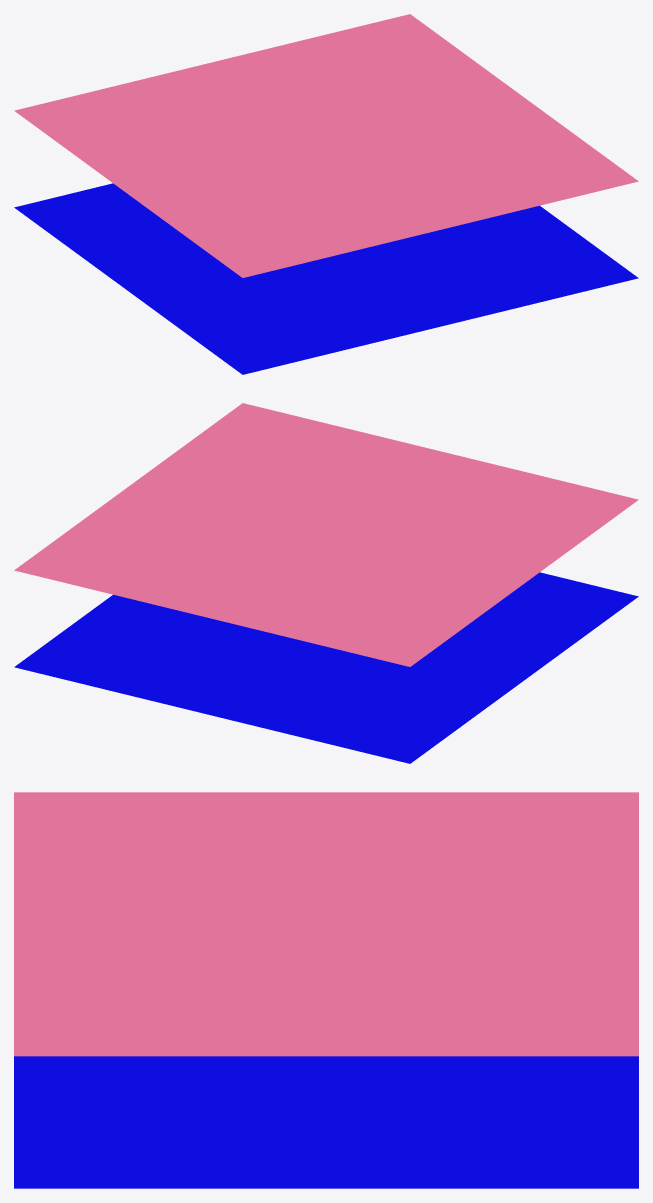
The model's file is parallelplanes.glb.
The picture shows the model from 3 angles, top to bottom: view 1: azimuth 30°, elevation 25°; view 2: azimuth 150°, elevation 25°; view 3: azimuth 270°, elevation 25°; orthographic projection. The views are drawn at different scales.
Visible parts, largest first — view 1: f, eq1; view 2: f, eq1; view 3: f, eq1.
Part boxes in pixels (x1,y1,x2,y2): f: (14, 14, 638, 277); eq1: (14, 183, 638, 374); f: (14, 403, 638, 666); eq1: (14, 572, 638, 763); f: (14, 792, 638, 1056); eq1: (14, 1056, 638, 1188).
Bounding box in the file's own units: 0.0857 × 0.02 × 0.0857.
